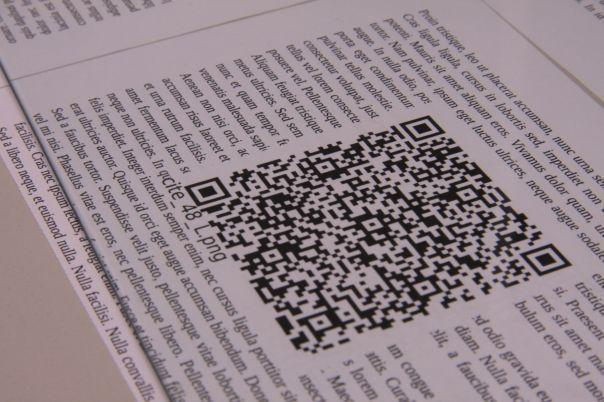qr_code: (185, 114, 573, 358)
